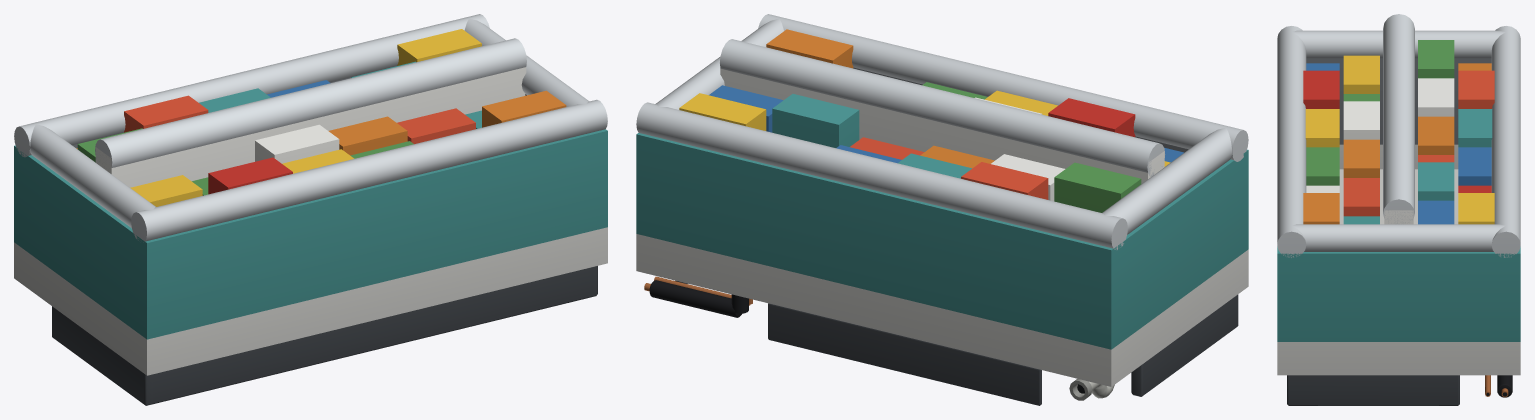
Rendered from IslandFreezer_Open_20_Stocked.glb.
3 views of the same model, side by side, from view 1: azimuth 30°, elevation 25°; view 2: azimuth 150°, elevation 25°; view 3: azimuth 270°, elevation 25° (orthographic). The views are drawn at different scales.
Visible parts, largest first — view 1: SM_IslandFreezer_Open_20_Stocked; view 2: SM_IslandFreezer_Open_20_Stocked; view 3: SM_IslandFreezer_Open_20_Stocked.
Boxes of the visible parts, box(x1,y1,x2,y2) form: SM_IslandFreezer_Open_20_Stocked: box(14, 14, 607, 405); SM_IslandFreezer_Open_20_Stocked: box(636, 14, 1248, 405); SM_IslandFreezer_Open_20_Stocked: box(1277, 14, 1520, 405).
Bounding box in the file's own units: 2 × 0.9 × 1.
1 material, 1 textured.
